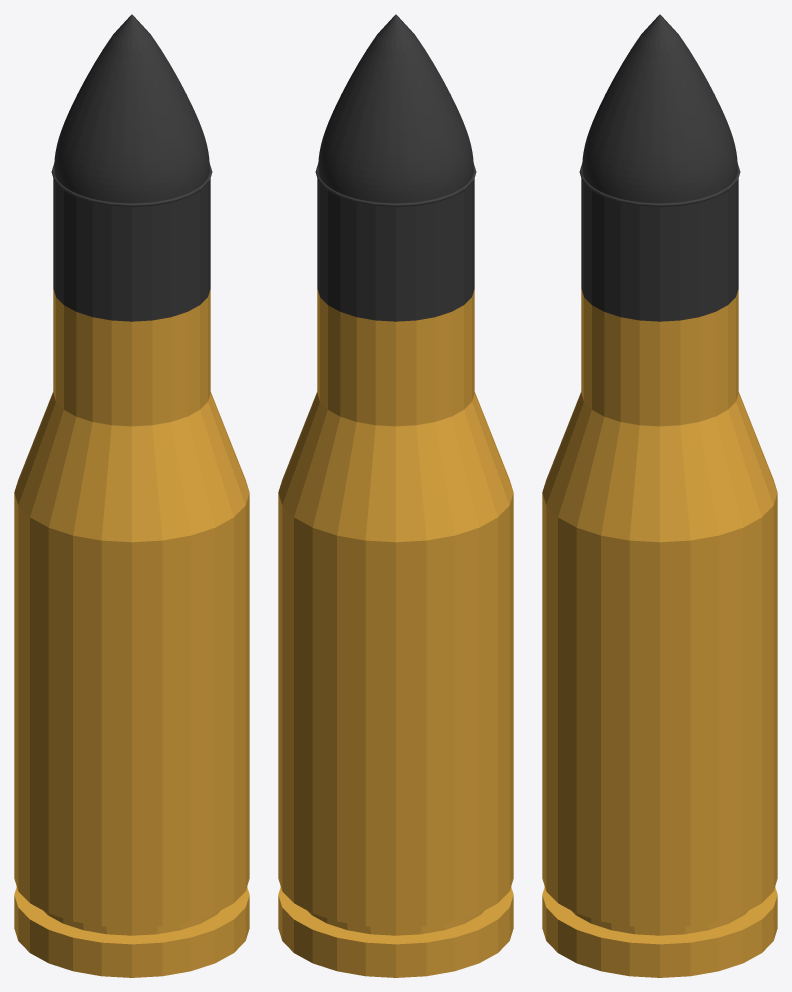
Rendered from Bullet.fbx.
The picture shows the model from 3 angles, left to right: view 1: azimuth 30°, elevation 25°; view 2: azimuth 150°, elevation 25°; view 3: azimuth 270°, elevation 25°; orthographic projection.
Parts seen in each view (by area): view 1: Circle.001; view 2: Circle.001; view 3: Circle.001.
Boxes of the visible parts, <box> form: Circle.001: <box>14,14,249,977</box>; Circle.001: <box>278,14,513,977</box>; Circle.001: <box>542,14,777,977</box>.
Bounding box in the file's own units: 75.71 × 324 × 75.71.
